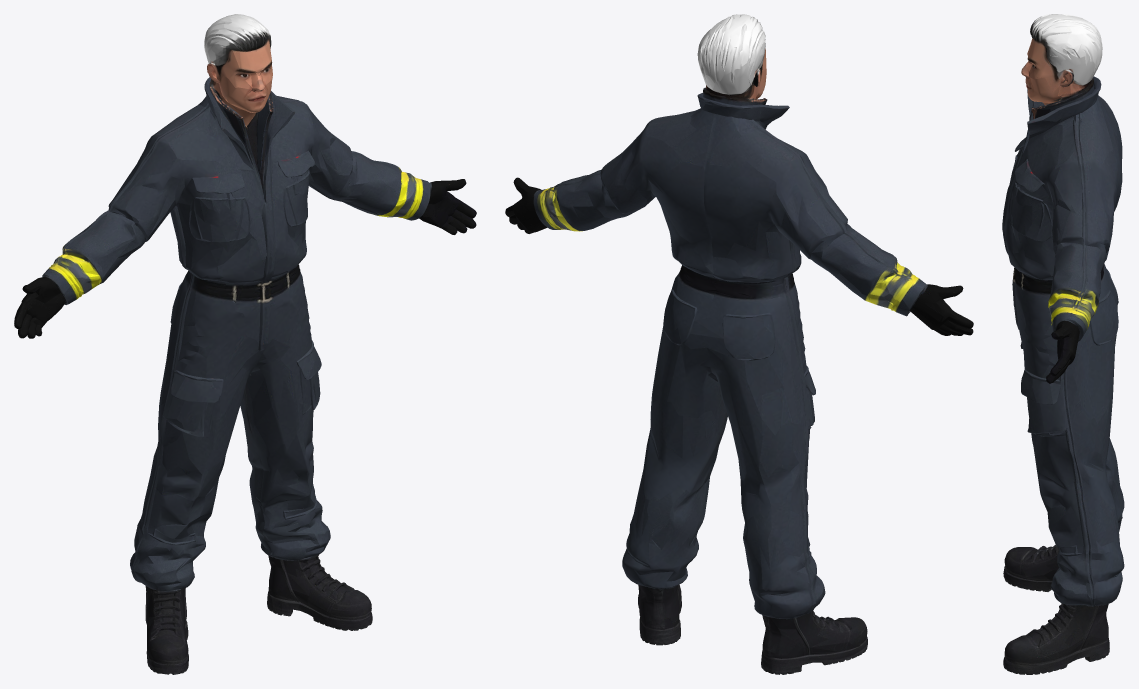
File: web.glb
3 views of the same model, side by side, from view 1: azimuth 30°, elevation 25°; view 2: azimuth 150°, elevation 25°; view 3: azimuth 270°, elevation 25° (orthographic). The views are drawn at different scales.
Parts seen in each view (by area): view 1: output_unwrapped; view 2: output_unwrapped; view 3: output_unwrapped.
Boxes of the visible parts, x1,y1,x2,y2 form: output_unwrapped: (14,14,476,674); output_unwrapped: (505,14,973,674); output_unwrapped: (1002,14,1124,674).
Bounding box in the file's own units: 1.5 × 1.9 × 0.3467.
Materials: 1 (1 with a texture image).
